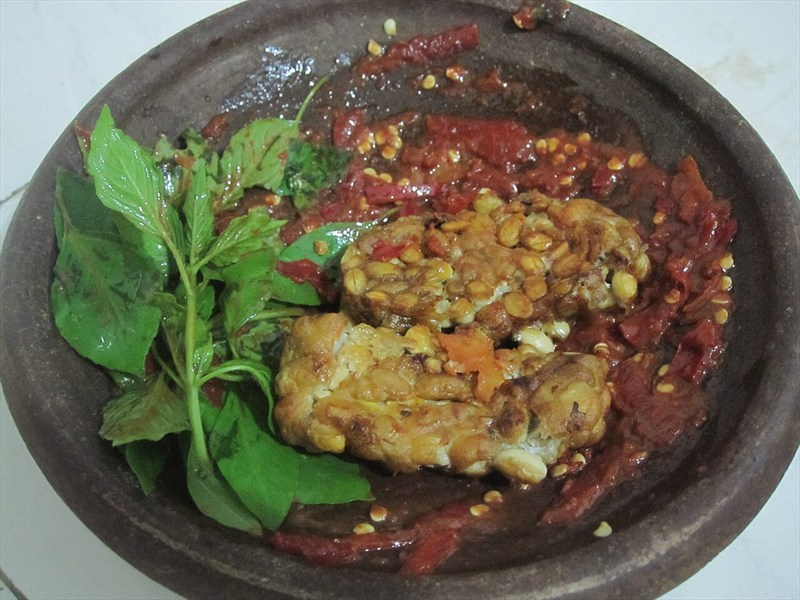Tempe Goreng: (142, 109, 673, 496)
